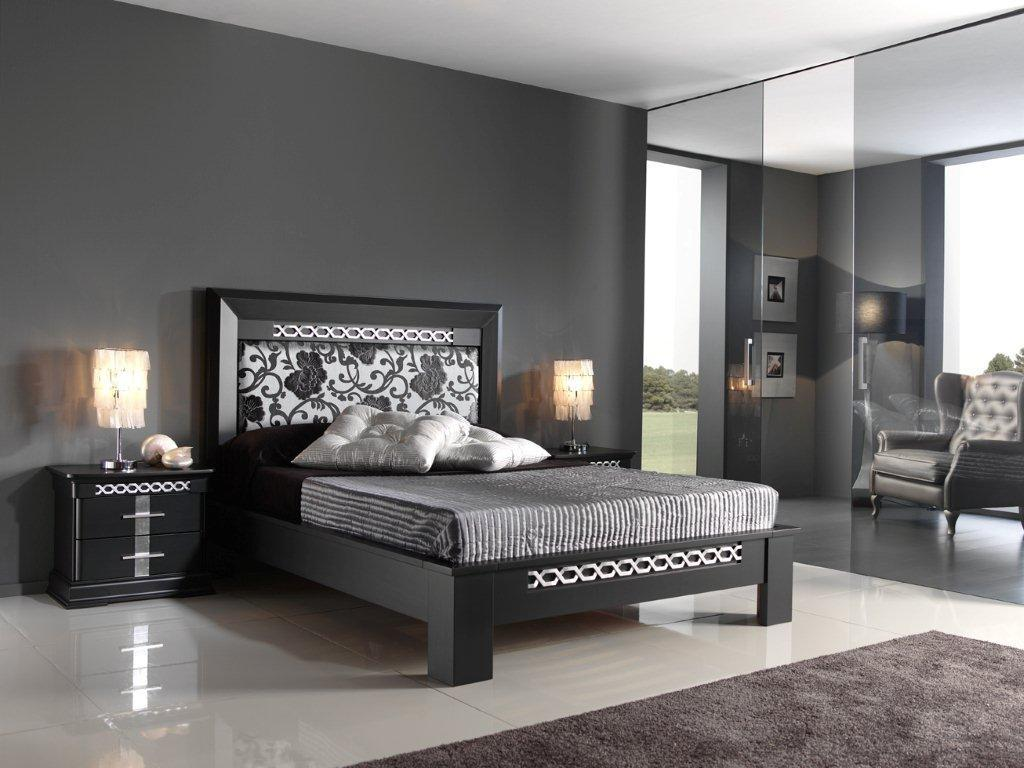bed: (215, 298, 790, 658)
